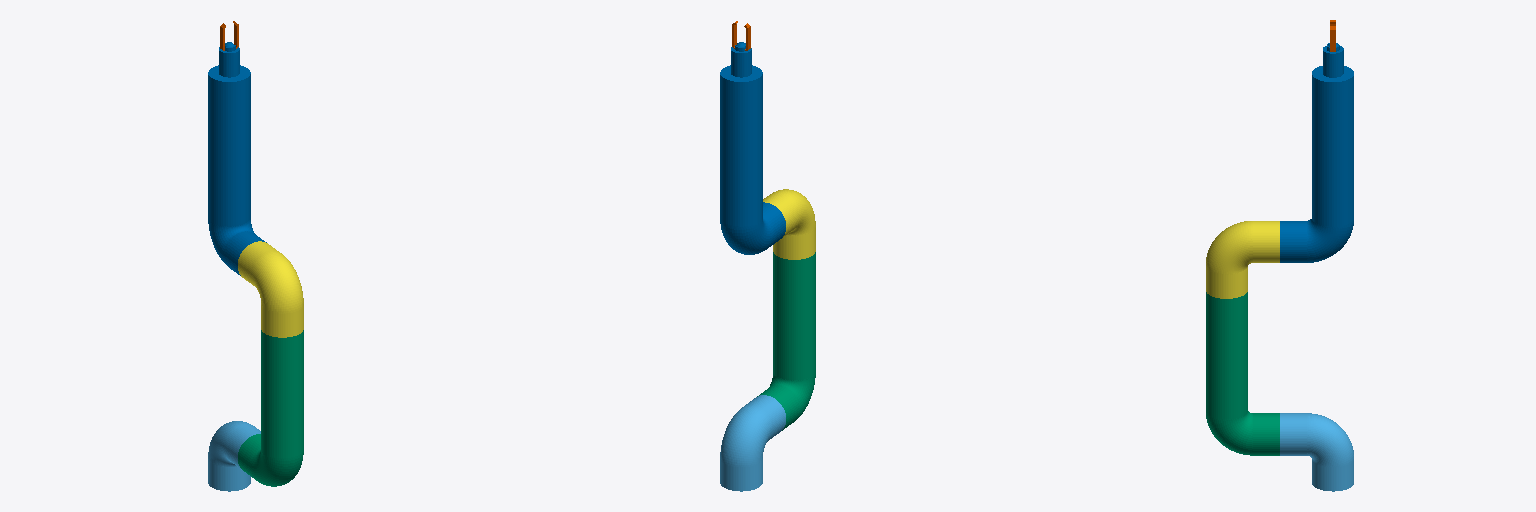
URDF robot description (RobotArm):
<?xml version="1.0" ?>
<robot name="RobotArm" xmlns:xacro="http://www.ros.org/wiki/xacro">

  <link name="base_link">
    <visual>
      <origin xyz="0 0 0" rpy="0 0 0"/>
      <geometry>
        <mesh filename="package://moveit_resources_panda_description/meshes/collision/base_link.stl" scale="0.001 0.001 0.001"/>
      </geometry>
    </visual>
    <collision>
      <origin xyz="0 0 0" rpy="0 0 0"/>
      <geometry>
        <mesh filename="package://moveit_resources_panda_description/meshes/collision/base_link.stl" scale="0.001 0.001 0.001"/>
      </geometry>
    </collision>
  </link>

  <link name="Componente4_1">
    <visual>
      <origin xyz="0.0 0.0 -0.15" rpy="0 0 0"/>
      <geometry>
        <mesh filename="package://moveit_resources_panda_description/meshes/collision/Componente4_1.stl" scale="0.001 0.001 0.001"/>
      </geometry>
    </visual>
    <collision>
      <origin xyz="0.0 0.0 -0.15" rpy="0 0 0"/>
      <geometry>
        <mesh filename="package://moveit_resources_panda_description/meshes/collision/Componente4_1.stl" scale="0.001 0.001 0.001"/>
      </geometry>
    </collision>
  </link>

  <link name="Componente5_1">
    <visual>
      <origin xyz="0.0 0.1 -0.25" rpy="0 0 0"/>
      <geometry>
        <mesh filename="package://moveit_resources_panda_description/meshes/collision/Componente5_1.stl" scale="0.001 0.001 0.001"/>
      </geometry>
    </visual>
    <collision>
      <origin xyz="0.0 0.1 -0.25" rpy="0 0 0"/>
      <geometry>
        <mesh filename="package://moveit_resources_panda_description/meshes/collision/Componente5_1.stl" scale="0.001 0.001 0.001"/>
      </geometry>
    </collision>
  </link>

  <link name="Componente6_1">
    <visual>
      <origin xyz="0.0 0.2 -0.55" rpy="0 0 0"/>
      <geometry>
        <mesh filename="package://moveit_resources_panda_description/meshes/collision/Componente6_1.stl" scale="0.001 0.001 0.001"/>
      </geometry>
    </visual>
    <collision>
      <origin xyz="0.0 0.2 -0.55" rpy="0 0 0"/>
      <geometry>
        <mesh filename="package://moveit_resources_panda_description/meshes/collision/Componente6_1.stl" scale="0.001 0.001 0.001"/>
      </geometry>
    </collision>
  </link>

  <link name="Componente7_1">
    <visual>
      <origin xyz="0.0 0.1 -0.65" rpy="0 0 0"/>
      <geometry>
        <mesh filename="package://moveit_resources_panda_description/meshes/collision/Componente7_1.stl" scale="0.001 0.001 0.001"/>
      </geometry>
    </visual>
    <collision>
      <origin xyz="0.0 0.1 -0.65" rpy="0 0 0"/>
      <geometry>
        <mesh filename="package://moveit_resources_panda_description/meshes/collision/Componente7_1.stl" scale="0.001 0.001 0.001"/>
      </geometry>
    </collision>
  </link>

  <link name="Componente8_1">
    <visual>
      <origin xyz="0.0 0.0 -1.05" rpy="0 0 0"/>
      <geometry>
        <mesh filename="package://moveit_resources_panda_description/meshes/collision/Componente8_1.stl" scale="0.001 0.001 0.001"/>
      </geometry>
    </visual>
    <collision>
      <origin xyz="0.0 0.0 -1.05" rpy="0 0 0"/>
      <geometry>
        <mesh filename="package://moveit_resources_panda_description/meshes/collision/Componente8_1.stl" scale="0.001 0.001 0.001"/>
      </geometry>
    </collision>
  </link>

  <joint name="limb1_to_base_link" type="continuous">
    <safety_controller k_position="100.0" k_velocity="40.0" /> <origin xyz="0.0 0.0 0.15" rpy="0 0 0"/>
    <parent link="base_link"/>
    <child link="Componente4_1"/>
    <axis xyz="0.0 0.0 1.0"/>
    <limit effort="100" velocity="100"/> </joint>

  <joint name="limb2_to_limb1" type="revolute">
    <safety_controller k_position="100.0" k_velocity="40.0" soft_lower_limit="-1.55" soft_upper_limit="1.55" /> <origin xyz="0.0 -0.1 0.1" rpy="0 0 0"/>
    <parent link="Componente4_1"/>
    <child link="Componente5_1"/>
    <axis xyz="0.0 -1.0 0.0"/>
    <limit effort="100" lower="-1.570796" upper="1.570796" velocity="100"/>
  </joint>

  <joint name="limb3_to_limb2" type="continuous">
    <safety_controller k_position="100.0" k_velocity="40.0" />
    <origin xyz="0.0 -0.1 0.3" rpy="0 0 0"/>
    <parent link="Componente5_1"/>
    <child link="Componente6_1"/>
    <axis xyz="0.0 0.0 1.0"/>
    <limit effort="100" velocity="100"/> </joint>

  <joint name="limb4_to_limb3" type="revolute">
    <safety_controller k_position="100.0" k_velocity="40.0" soft_lower_limit="-2.77" soft_upper_limit="2.77" />
    <origin xyz="0.0 0.1 0.1" rpy="0 0 0"/>
    <parent link="Componente6_1"/>
    <child link="Componente7_1"/>
    <axis xyz="0.0 1.0 0.0"/>
    <limit effort="100" lower="-2.792527" upper="2.792527" velocity="100"/>
  </joint>

  <joint name="limb5_to_limb4" type="continuous">
    <safety_controller k_position="100.0" k_velocity="40.0" />
    <origin xyz="0.0 0.1 0.4" rpy="0 0 0"/>
    <parent link="Componente7_1"/>
    <child link="Componente8_1"/>
    <axis xyz="0.0 0.0 1.0"/>
    <limit effort="100" velocity="100"/> </joint>

  </robot>

--- Render facts (derived) ---
Views: 3 orthographic renders of the robot side by side, from view 1: azimuth 30°, elevation 25°; view 2: azimuth 150°, elevation 25°; view 3: azimuth 270°, elevation 25°.
Model RobotArm with 6 links and 5 joints (2 revolute, 3 continuous), rooted at base_link, posed every joint at zero.
Links seen in each view (by area): view 1: Componente7_1, Componente5_1, Componente6_1, Componente4_1; view 2: Componente7_1, Componente5_1, Componente4_1, Componente6_1; view 3: Componente7_1, Componente5_1, Componente4_1, Componente6_1.
Link boxes in pixels (<box>): Componente7_1: <box>208,42,266,275</box>; Componente5_1: <box>238,330,303,486</box>; Componente6_1: <box>238,241,303,337</box>; Componente4_1: <box>208,421,260,491</box>; Componente7_1: <box>720,42,785,254</box>; Componente5_1: <box>757,252,815,430</box>; Componente4_1: <box>720,395,785,491</box>; Componente6_1: <box>763,189,815,259</box>; Componente7_1: <box>1280,43,1353,262</box>; Componente5_1: <box>1206,292,1279,455</box>; Componente4_1: <box>1280,413,1353,491</box>; Componente6_1: <box>1206,221,1279,298</box>.
Bounding box of the posed robot: 0.08 × 0.28 × 0.9544 m (x, y, z).
5 mesh visuals loaded from 6 distinct referenced files (5 binary STL); not drawn: 1 (reference not matched to a file when rendering).